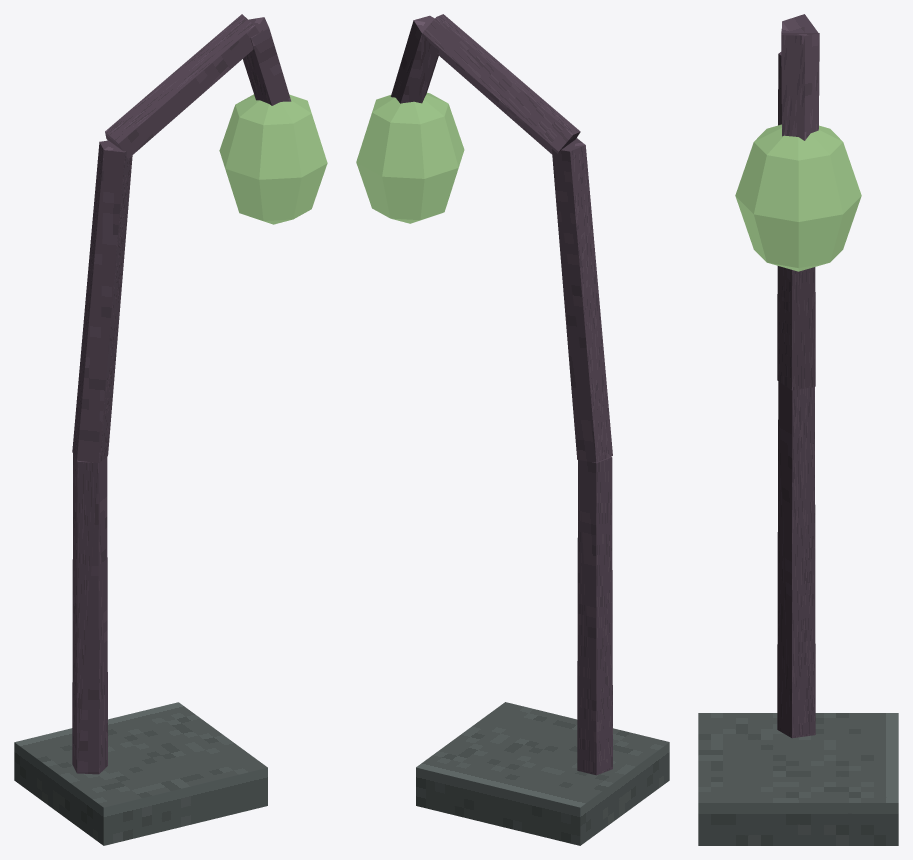
Rendered from f_exodii_lamp.glb.
3 renders of one model, left to right at view 1: azimuth 30°, elevation 25°; view 2: azimuth 150°, elevation 25°; view 3: azimuth 270°, elevation 25°, orthographic. The views are drawn at different scales.
Parts seen in each view (by area): view 1: block_area-light-foot, block_curved-grown-metal-standard-2, block_curved-grown-metal-standard-1, block_green-glowing-bulb, block_curved-grown-metal-standard-3, block_curved-grown-metal-standard-4; view 2: block_area-light-foot, block_curved-grown-metal-standard-2, block_curved-grown-metal-standard-1, block_green-glowing-bulb, block_curved-grown-metal-standard-3, block_curved-grown-metal-standard-4; view 3: block_area-light-foot, block_green-glowing-bulb, block_curved-grown-metal-standard-1, block_curved-grown-metal-standard-2, block_curved-grown-metal-standard-4, block_curved-grown-metal-standard-3.
Part boxes in pixels (bbox=[...]): block_area-light-foot: bbox=[14, 702, 267, 845]; block_curved-grown-metal-standard-2: bbox=[72, 140, 132, 462]; block_curved-grown-metal-standard-1: bbox=[72, 454, 107, 774]; block_green-glowing-bulb: bbox=[219, 94, 327, 224]; block_curved-grown-metal-standard-3: bbox=[105, 14, 259, 158]; block_curved-grown-metal-standard-4: bbox=[243, 17, 291, 105]; block_area-light-foot: bbox=[416, 702, 669, 845]; block_curved-grown-metal-standard-2: bbox=[551, 138, 612, 462]; block_curved-grown-metal-standard-1: bbox=[577, 456, 612, 775]; block_green-glowing-bulb: bbox=[356, 92, 464, 223]; block_curved-grown-metal-standard-3: bbox=[423, 14, 580, 154]; block_curved-grown-metal-standard-4: bbox=[390, 15, 438, 103]; block_area-light-foot: bbox=[698, 713, 898, 845]; block_green-glowing-bulb: bbox=[735, 124, 861, 271]; block_curved-grown-metal-standard-1: bbox=[777, 381, 815, 738]; block_curved-grown-metal-standard-2: bbox=[777, 52, 815, 390]; block_curved-grown-metal-standard-4: bbox=[781, 31, 819, 140]; block_curved-grown-metal-standard-3: bbox=[781, 14, 818, 65].
Bounding box in the file's own units: 0.56 × 1.53 × 0.33.
Materials: 2 (2 with a texture image).
